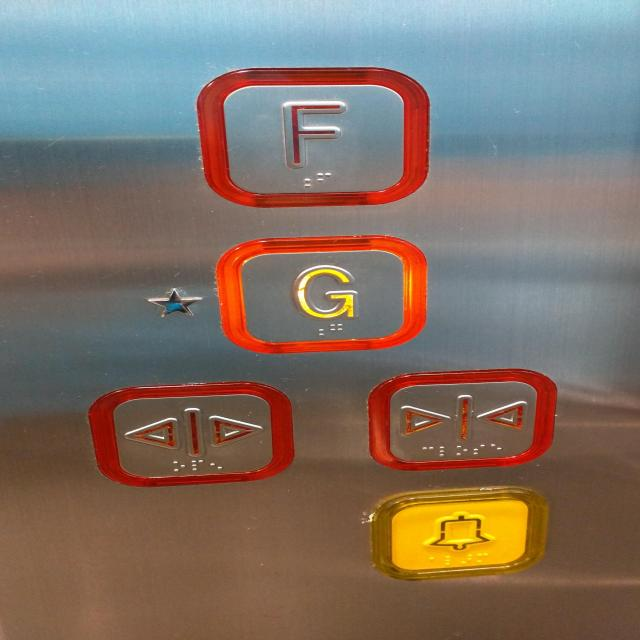F: (195, 62, 430, 206)
G: (214, 234, 426, 353)
alarm: (370, 486, 550, 580)
close: (367, 369, 557, 470)
open: (87, 382, 295, 486)
